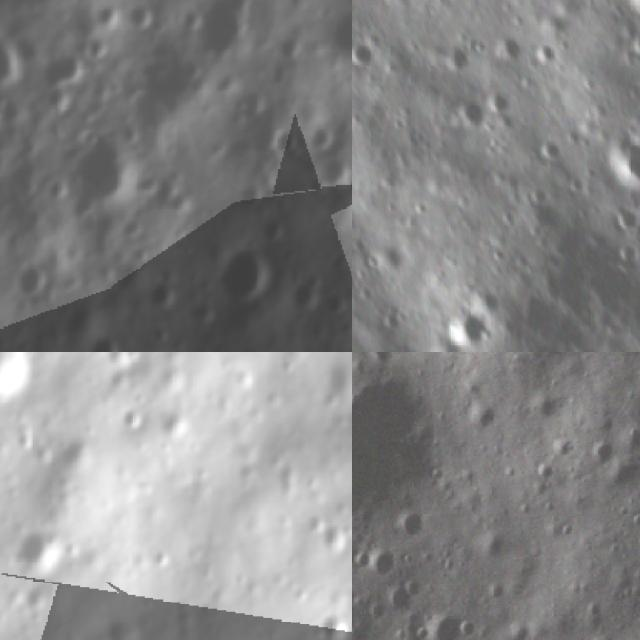crater: (352, 354, 459, 509), (69, 140, 154, 210), (436, 297, 509, 352), (596, 121, 640, 212), (442, 84, 502, 144), (478, 27, 538, 86), (352, 24, 398, 90), (434, 33, 487, 87), (303, 507, 347, 567), (11, 526, 62, 576), (46, 43, 94, 95), (224, 249, 276, 290), (310, 602, 352, 640), (0, 33, 28, 88), (20, 258, 54, 303), (470, 396, 505, 439), (392, 504, 426, 548), (476, 528, 514, 567), (0, 352, 31, 399), (605, 454, 640, 494), (424, 609, 467, 640), (380, 580, 416, 617), (365, 544, 400, 580), (532, 387, 564, 424), (93, 328, 130, 352), (483, 578, 512, 606), (528, 456, 557, 482), (504, 615, 533, 640), (453, 614, 478, 640), (402, 573, 426, 599), (621, 509, 640, 538), (366, 352, 400, 364)
